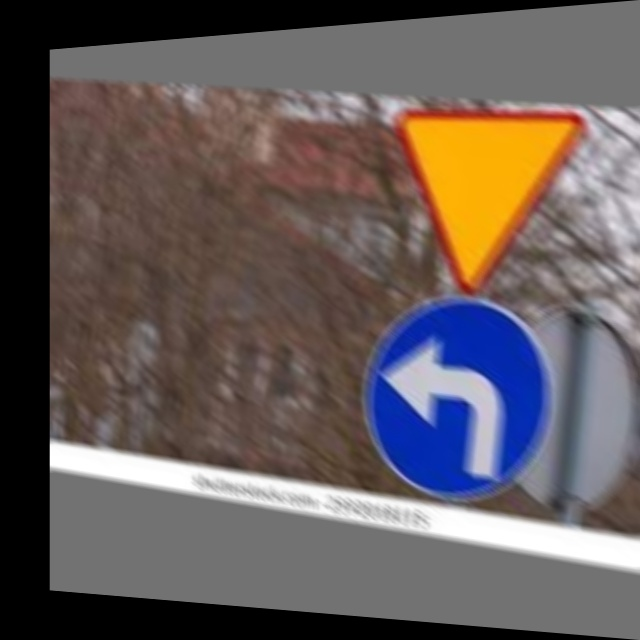Compulsory_Turn_Left_Ahead: (355, 288, 556, 507)
